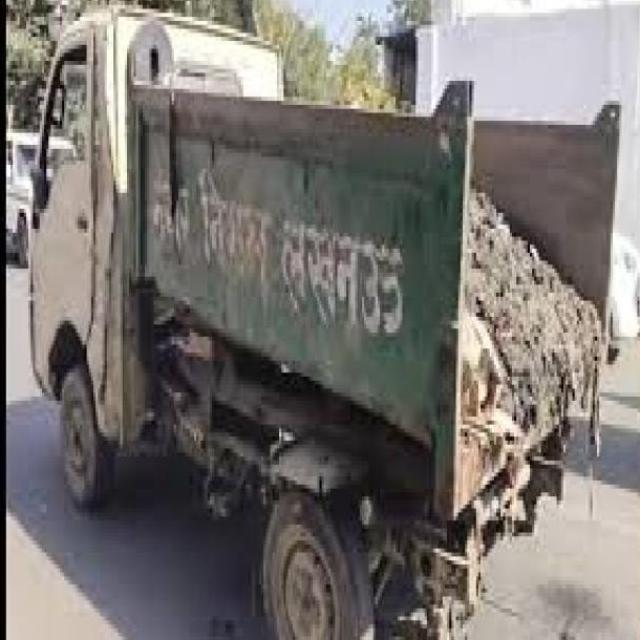uncovered: (51, 84, 620, 616)
